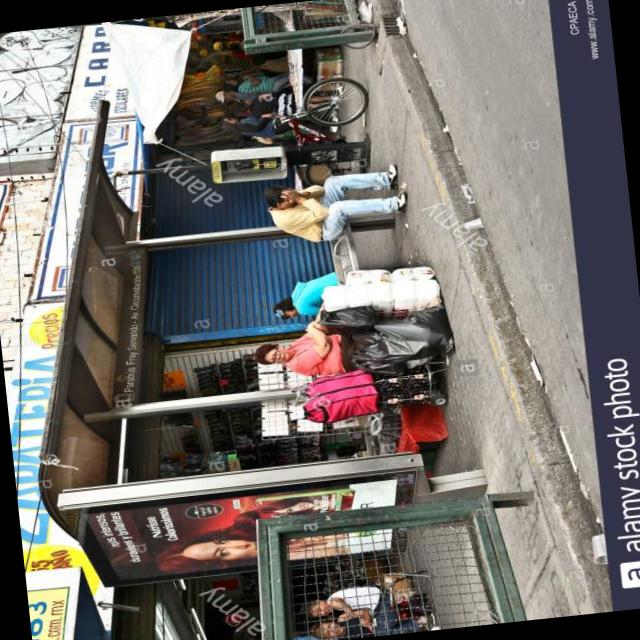bareface: (318, 620, 346, 637), (268, 349, 292, 363), (312, 601, 333, 615)
